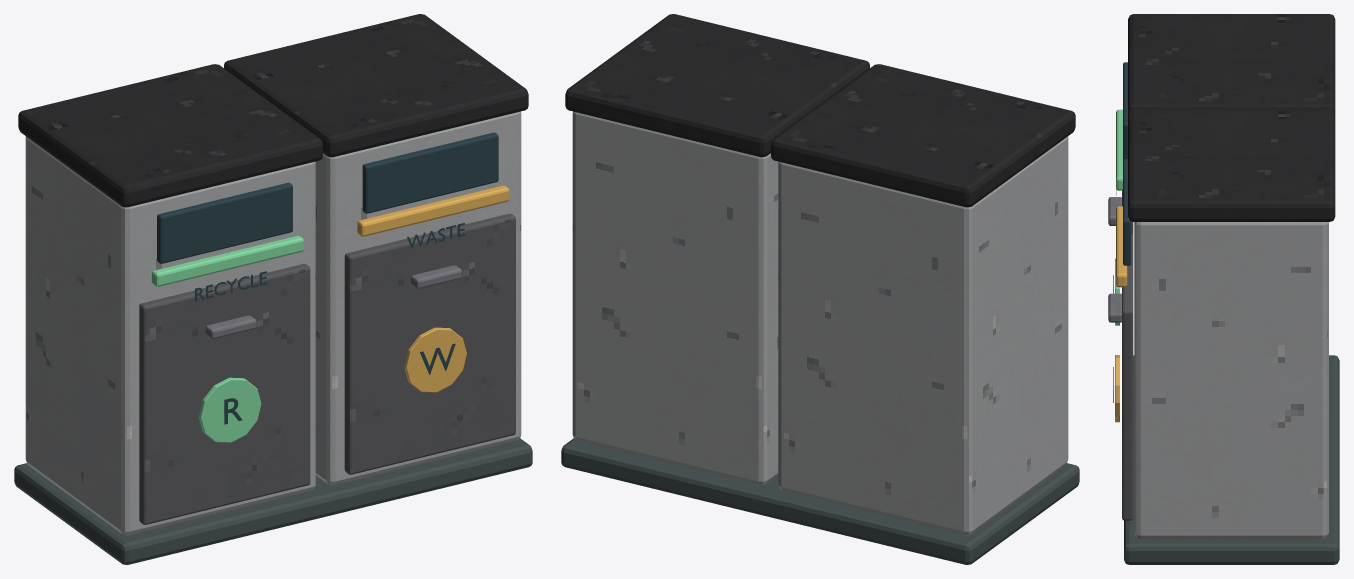
File: lbd_waste_station_v2.glb
3 views of the same model, side by side, from view 1: azimuth 30°, elevation 25°; view 2: azimuth 150°, elevation 25°; view 3: azimuth 270°, elevation 25° (orthographic). The views are drawn at different scales.
Parts seen in each view (by area): view 1: waste_station_v2__bin_006, waste_station_v2__front_034, waste_station_v2__front_009, waste_station_v2__lid_012, waste_station_v2__lid_037, waste_station_v2__bin_031, waste_station_v2__base_003, waste_station_v2__opening_040, waste_station_v2__opening_015, waste_station_v2__category badge_025, waste_station_v2__category badge_050, waste_station_v2__slot rim_043 (+3 smaller); view 2: waste_station_v2__bin_006, waste_station_v2__bin_031, waste_station_v2__lid_012, waste_station_v2__lid_037, waste_station_v2__base_003; view 3: waste_station_v2__bin_031, waste_station_v2__lid_037, waste_station_v2__lid_012, waste_station_v2__base_003, waste_station_v2__front_034, waste_station_v2__opening_040, waste_station_v2__slot rim_043, waste_station_v2__slot rim_018, waste_station_v2__opening_015, waste_station_v2__handle_046, waste_station_v2__category badge_050.
Part boxes in pixels (x1=…): waste_station_v2__bin_006: x1=25, y1=136, x2=315, y2=535; waste_station_v2__front_034: x1=344, y1=213, x2=515, y2=474; waste_station_v2__front_009: x1=139, y1=264, x2=310, y2=524; waste_station_v2__lid_012: x1=18, y1=64, x2=322, y2=207; waste_station_v2__lid_037: x1=224, y1=14, x2=528, y2=157; waste_station_v2__bin_031: x1=315, y1=111, x2=521, y2=484; waste_station_v2__base_003: x1=14, y1=438, x2=532, y2=564; waste_station_v2__opening_040: x1=362, y1=132, x2=498, y2=213; waste_station_v2__opening_015: x1=157, y1=182, x2=292, y2=263; waste_station_v2__category badge_025: x1=198, y1=377, x2=261, y2=442; waste_station_v2__category badge_050: x1=404, y1=327, x2=466, y2=392; waste_station_v2__slot rim_043: x1=357, y1=185, x2=509, y2=236; waste_station_v2__bin_006: x1=778, y1=136, x2=1068, y2=535; waste_station_v2__bin_031: x1=572, y1=111, x2=778, y2=484; waste_station_v2__lid_012: x1=771, y1=64, x2=1075, y2=207; waste_station_v2__lid_037: x1=565, y1=14, x2=869, y2=157; waste_station_v2__base_003: x1=561, y1=438, x2=1079, y2=564; waste_station_v2__bin_031: x1=1134, y1=222, x2=1328, y2=538; waste_station_v2__lid_037: x1=1128, y1=110, x2=1335, y2=221; waste_station_v2__lid_012: x1=1128, y1=14, x2=1335, y2=115; waste_station_v2__base_003: x1=1124, y1=355, x2=1339, y2=564; waste_station_v2__front_034: x1=1122, y1=233, x2=1133, y2=520; waste_station_v2__opening_040: x1=1123, y1=158, x2=1131, y2=265; waste_station_v2__slot rim_043: x1=1116, y1=206, x2=1127, y2=287; waste_station_v2__slot rim_018: x1=1116, y1=109, x2=1122, y2=190; waste_station_v2__opening_015: x1=1123, y1=62, x2=1127, y2=159; waste_station_v2__handle_046: x1=1108, y1=293, x2=1121, y2=322; waste_station_v2__category badge_050: x1=1115, y1=355, x2=1119, y2=422.
Bounding box in the file's own units: 1.08 × 0.9475 × 0.5465.
8 materials, 4 textured.
